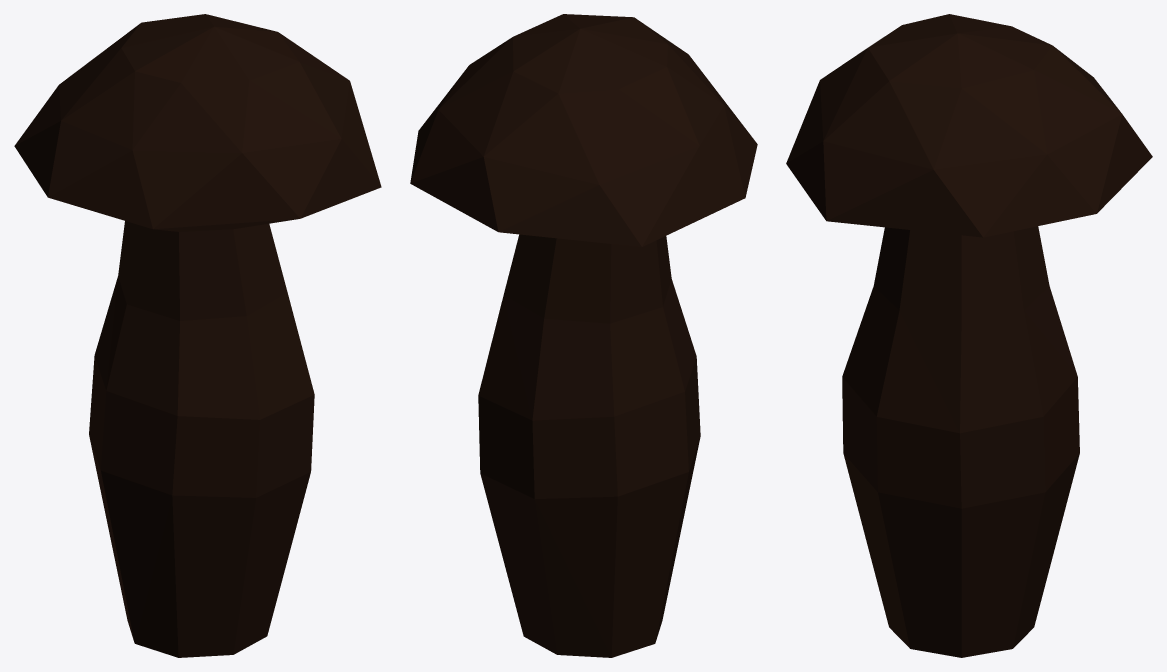
File: mushroom-summer-bolete-mature-a.fbx
The picture shows the model from 3 angles, left to right: view 1: azimuth 30°, elevation 25°; view 2: azimuth 150°, elevation 25°; view 3: azimuth 270°, elevation 25°; orthographic projection.
Parts seen in each view (by area): view 1: mushroom-summer-bolete-mature-a; view 2: mushroom-summer-bolete-mature-a; view 3: mushroom-summer-bolete-mature-a.
Boxes of the visible parts, left/top/right/bottom form: mushroom-summer-bolete-mature-a: left=14, top=14, right=381, bottom=657; mushroom-summer-bolete-mature-a: left=410, top=14, right=757, bottom=657; mushroom-summer-bolete-mature-a: left=786, top=14, right=1152, bottom=657.
Size of the model in its own units: 231 by 418 by 231.
